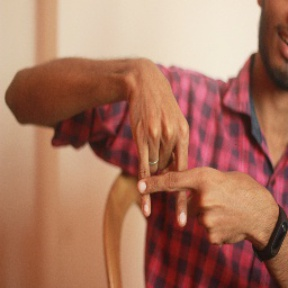H: (120, 121, 224, 227)
